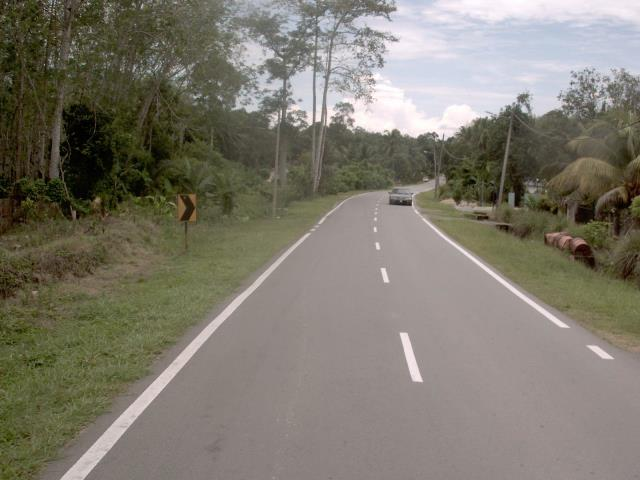traffic_sign: (170, 185, 202, 229)
